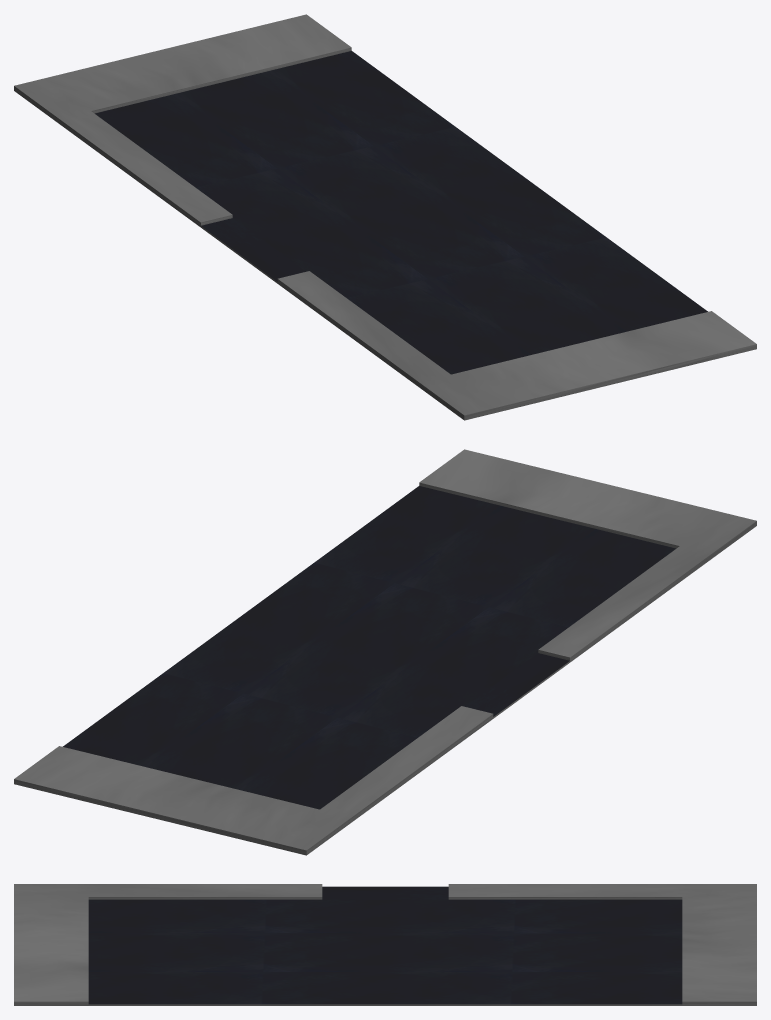
The model's file is Bloco 2.fbx.
3 views of the same model, one above another, from view 1: azimuth 30°, elevation 25°; view 2: azimuth 150°, elevation 25°; view 3: azimuth 270°, elevation 25° (orthographic). The views are drawn at different scales.
Parts seen in each view (by area): view 1: Cube; view 2: Cube; view 3: Cube.
Part boxes in pixels (box(x1,y1,x2,y2)): Cube: box(14, 14, 756, 420); Cube: box(14, 449, 756, 855); Cube: box(14, 884, 756, 1005).
Size of the model in its own units: 3000 by 50 by 8000.
